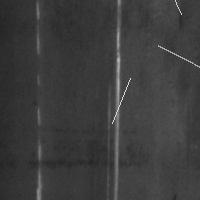scratches: (108, 1, 123, 200), (153, 40, 200, 86), (31, 48, 42, 199), (107, 73, 135, 128), (31, 1, 44, 59), (149, 0, 186, 19)
